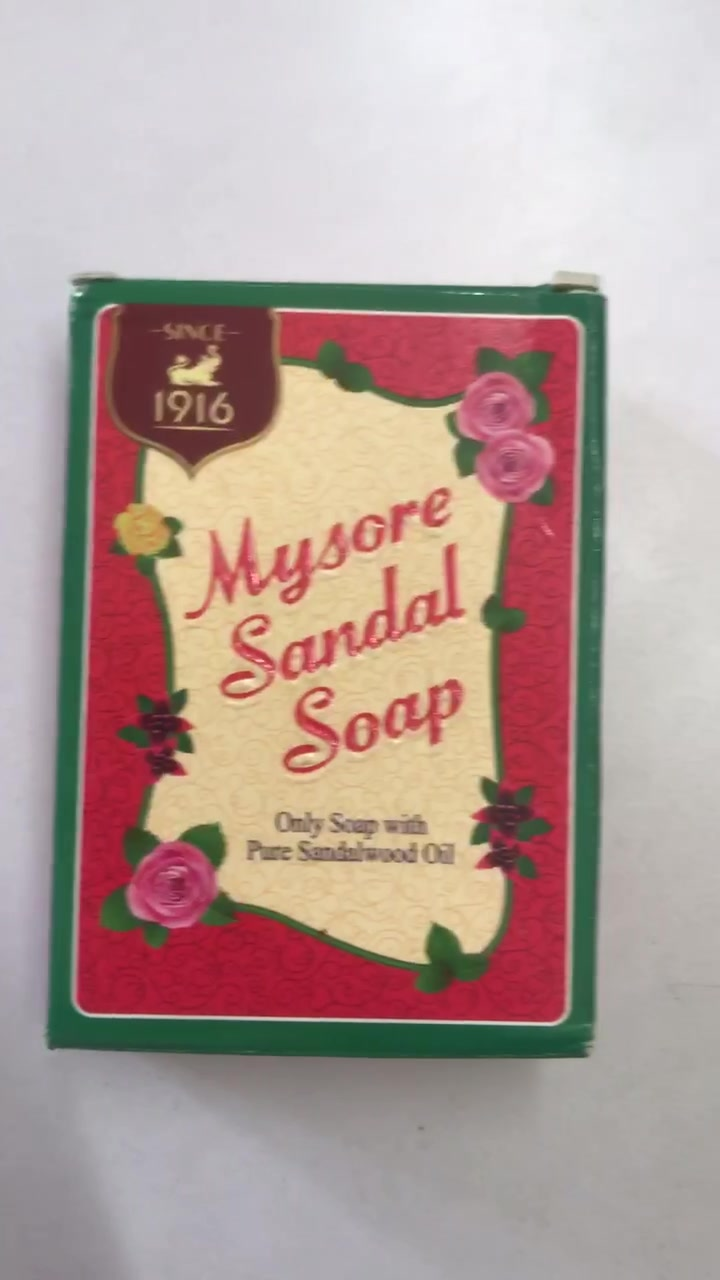mysore sandal soap: (51, 282, 608, 1055)
